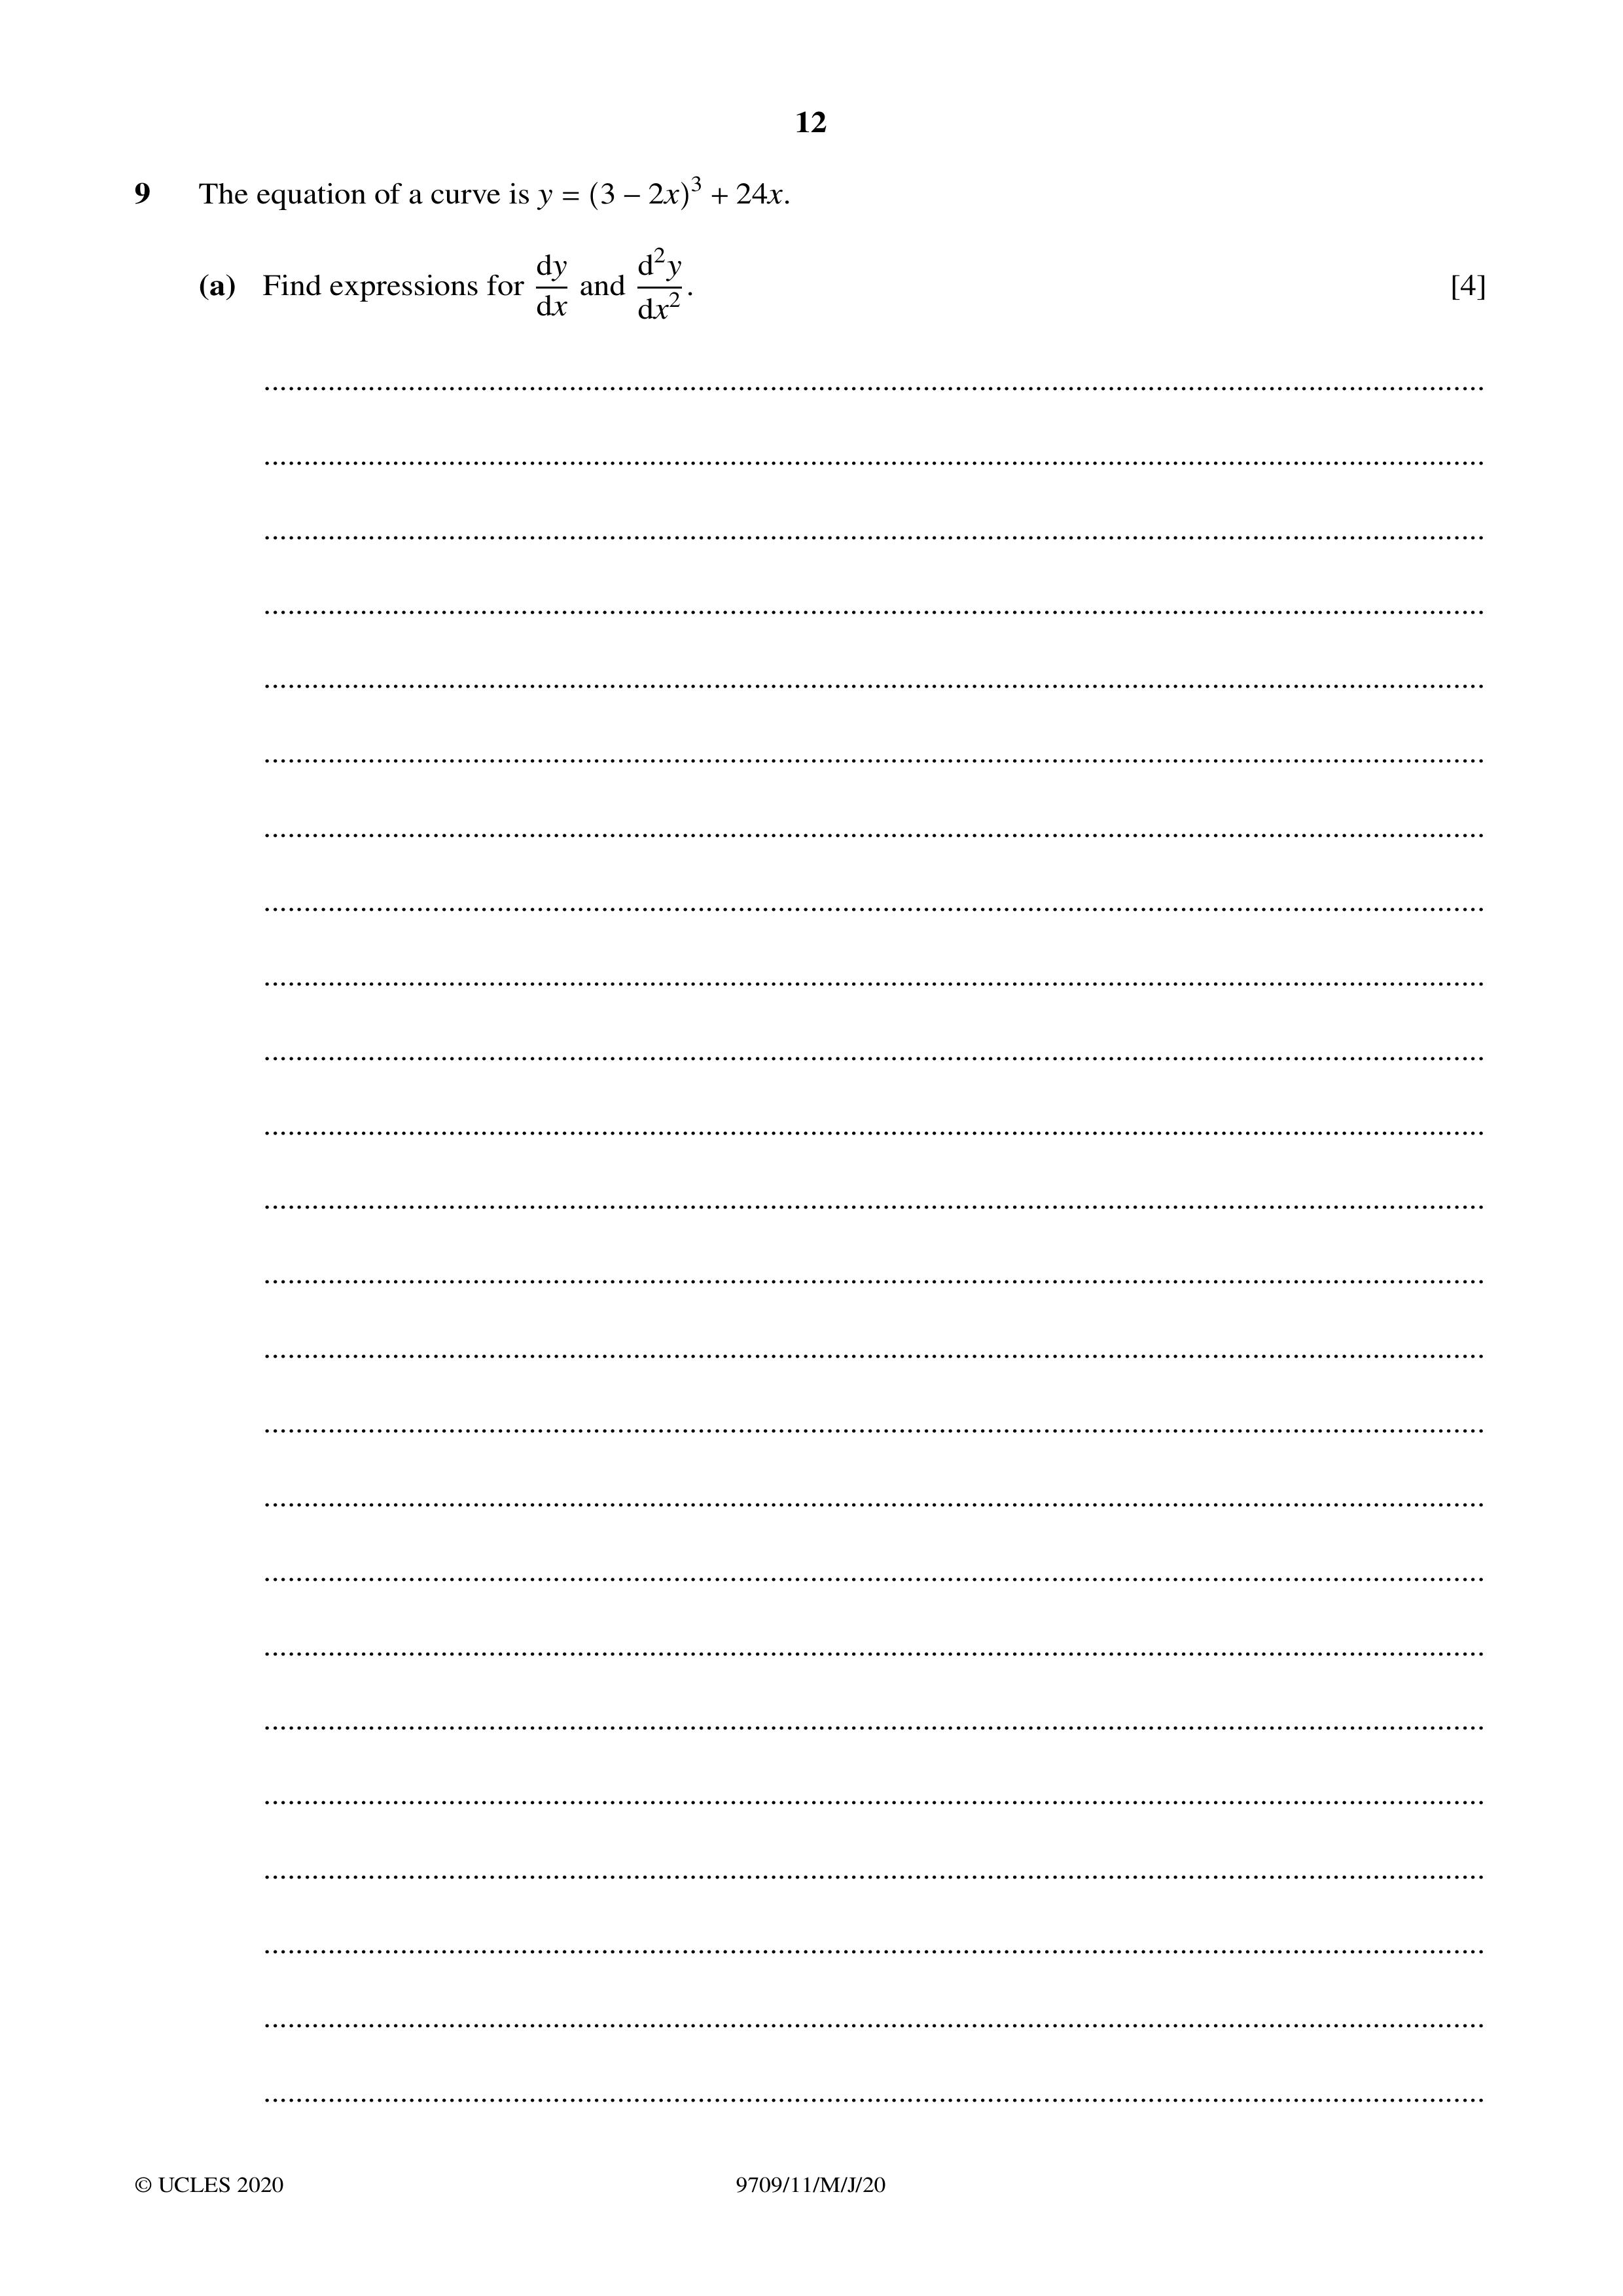question: (83, 142, 1532, 362)
